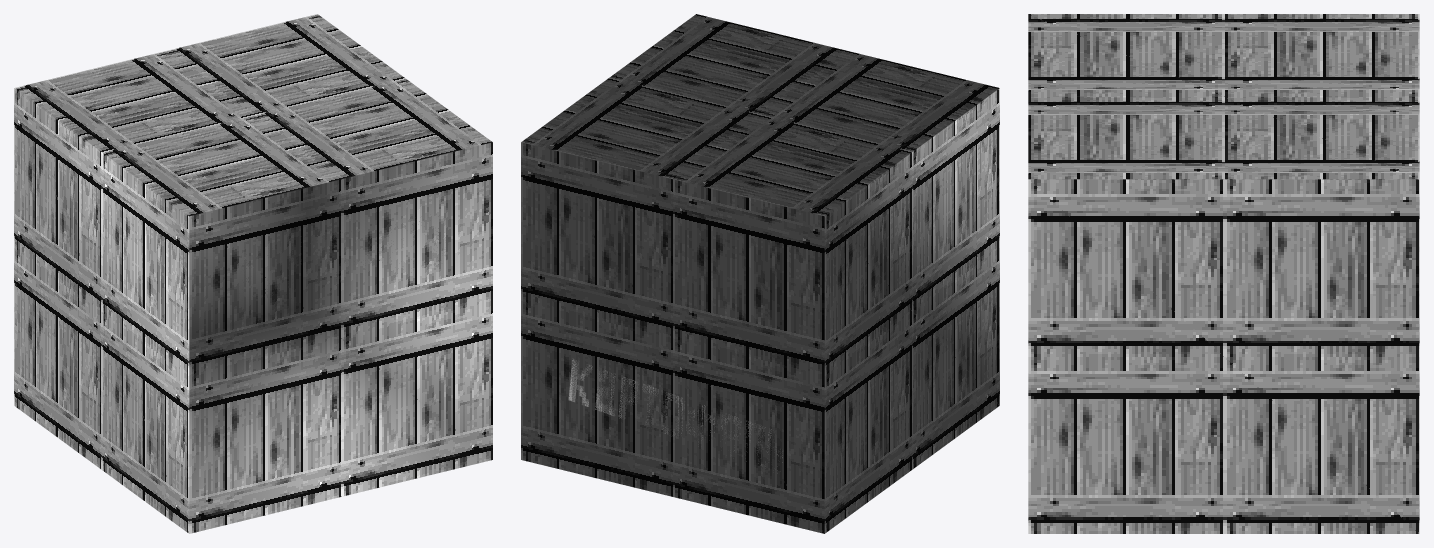
Rendered from Pwood_lg_crate2Z.obj.
3 renders of one model, left to right at view 1: azimuth 30°, elevation 25°; view 2: azimuth 150°, elevation 25°; view 3: azimuth 270°, elevation 25°, orthographic. The views are drawn at different scales.
Size of the model in its own units: 1166 by 1166 by 1166.
2 materials, 2 textured.
